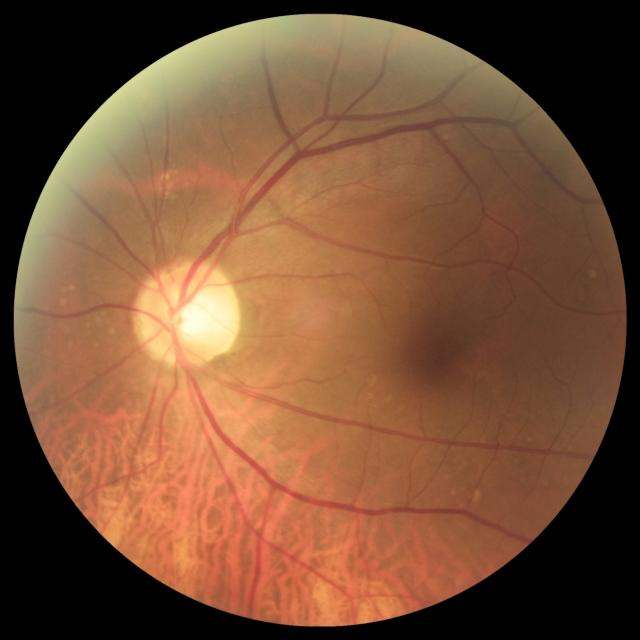OC: (168, 290, 222, 343)
OD: (133, 261, 240, 365)
